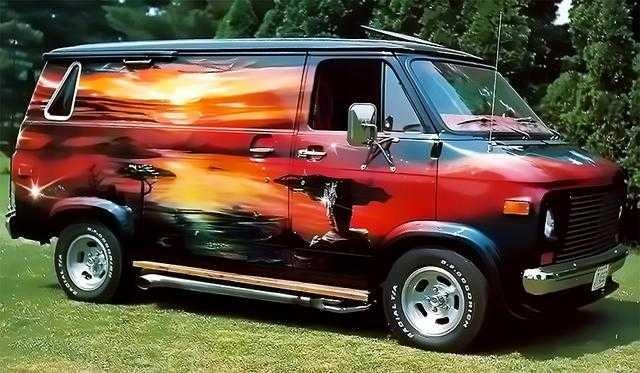car: (0, 32, 640, 346)
